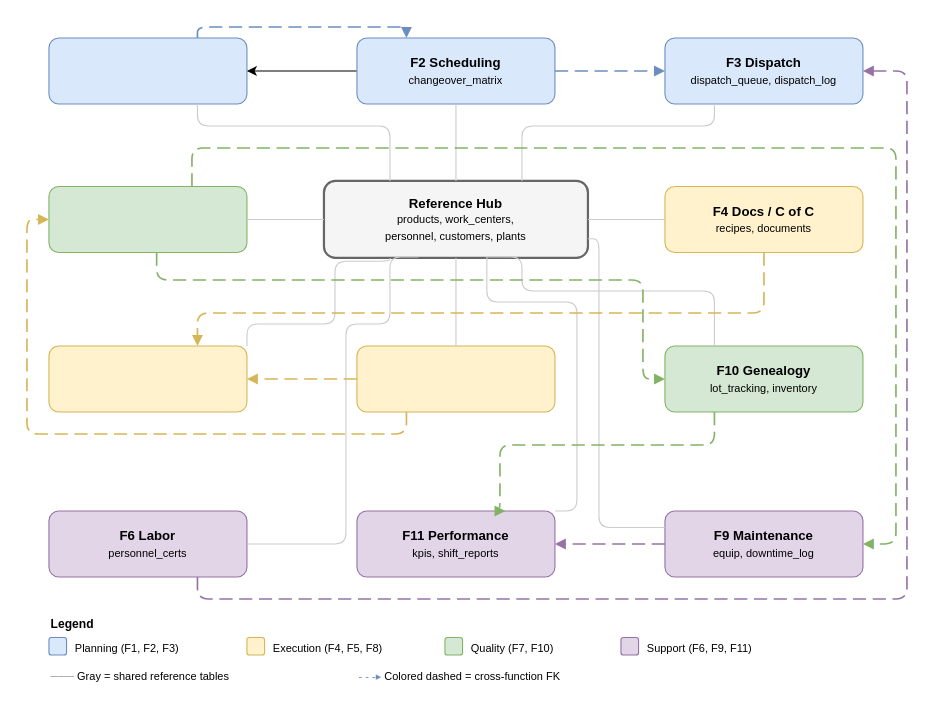
Some shapes in this 936 by 704 pixel diagram are drawn without their labels. Each missing label, with the centre of its shape:
"F1 Resources routings, work_orders" belongs at (147,70).
"F5 Data Collection process_data_live" belongs at (455,378).
"F7 Quality / SPC spc_readings, ncr" belongs at (147,218).
"F8 Process Mgmt recipe_params, holds" belongs at (147,378).
